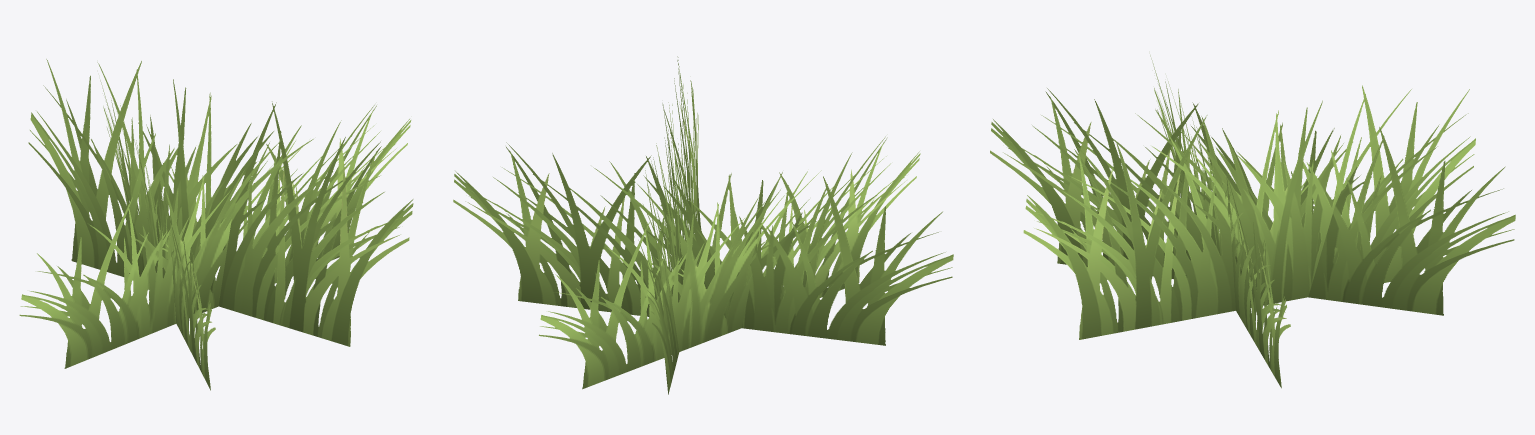
Rendered from alpine_grass_1.glb.
The picture shows the model from 3 angles, left to right: view 1: azimuth 30°, elevation 25°; view 2: azimuth 150°, elevation 25°; view 3: azimuth 270°, elevation 25°; orthographic projection. The views are drawn at different scales.
Visible parts, largest first — view 1: alpine_grass_1; view 2: alpine_grass_1; view 3: alpine_grass_1.
Part boxes in pixels (bbox=[...]): alpine_grass_1: bbox=[19, 59, 413, 390]; alpine_grass_1: bbox=[453, 56, 953, 394]; alpine_grass_1: bbox=[990, 55, 1515, 388].
Size of the model in its own units: 0.5373 by 0.2483 by 0.5177.
Materials: 1 (1 with a texture image).
